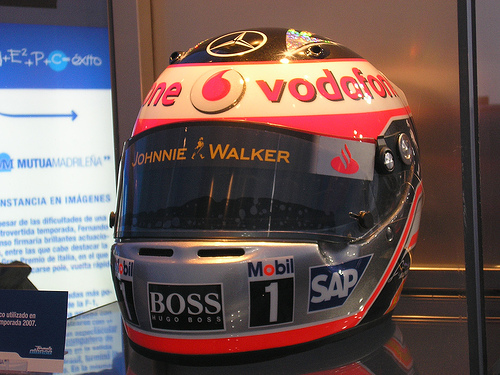helmet: (112, 21, 416, 331)
